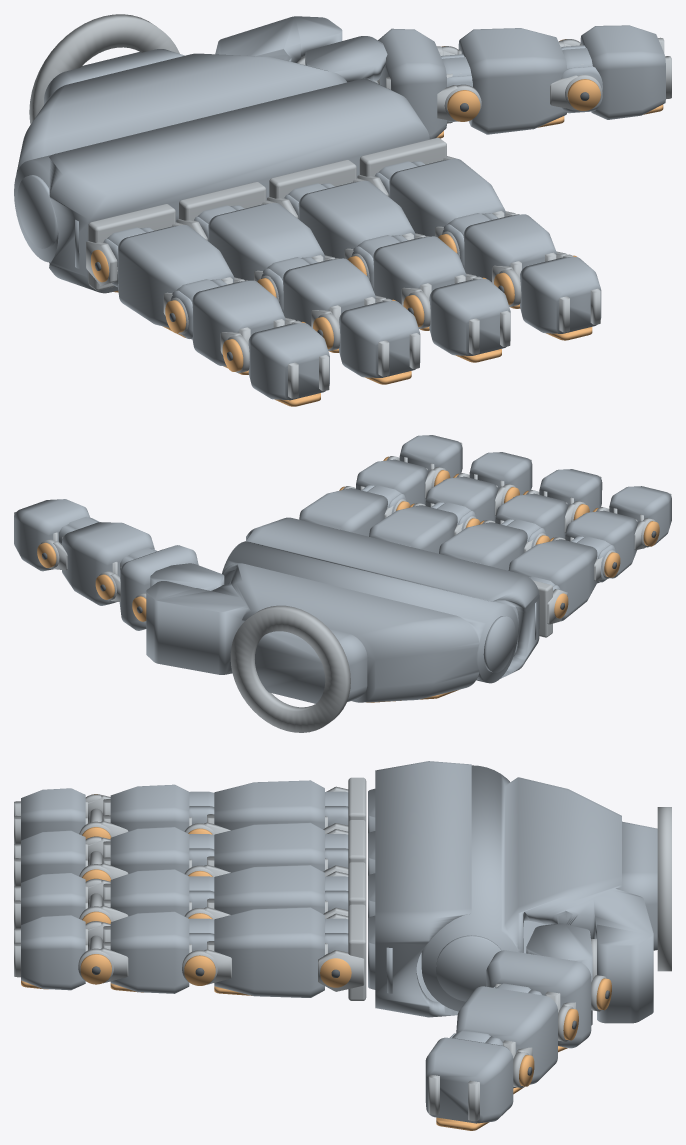
Rendered from vela12.glb.
The picture shows the model from 3 angles, top to bottom: view 1: azimuth 30°, elevation 25°; view 2: azimuth 150°, elevation 25°; view 3: azimuth 270°, elevation 25°; orthographic projection. The views are drawn at different scales.
Parts seen in each view (by area): view 1: visual__palm_bridge_pitch_link__0, visual__central_palm__0, visual__thumb_proximal__0, visual__little_proximal__0, visual__index_proximal__0, visual__ring_proximal__0, visual__middle_proximal__0, visual__thumb_distal__0, visual__thumb_metacarpal__0, visual__central_palm__1, visual__index_distal__0, visual__ring_distal__0 (+25 smaller); view 2: visual__central_palm__0, visual__palm_bridge_pitch_link__0, visual__central_palm__1, visual__thumb_proximal__0, visual__little_proximal__0, visual__middle_proximal__0, visual__ring_proximal__0, visual__index_proximal__0, visual__thumb_distal__0, visual__thumb_metacarpal__0, visual__little_middle__0, visual__middle_middle__0 (+9 smaller); view 3: visual__central_palm__0, visual__palm_bridge_pitch_link__0, visual__index_proximal__0, visual__thumb_proximal__0, visual__thumb_distal__0, visual__index_middle__0, visual__little_proximal__0, visual__middle_proximal__0, visual__ring_proximal__0, visual__thumb_metacarpal__0, visual__index_distal__0, visual__middle_middle__0 (+29 smaller).
Part boxes in pixels (x1=…): visual__palm_bridge_pitch_link__0: x1=48, y1=79, x2=429, y2=293; visual__central_palm__0: x1=14, y1=16, x2=377, y2=262; visual__thumb_proximal__0: x1=458, y1=28, x2=602, y2=134; visual__little_proximal__0: x1=118, y1=225, x2=234, y2=339; visual__index_proximal__0: x1=389, y1=158, x2=505, y2=268; visual__ring_proximal__0: x1=208, y1=203, x2=324, y2=312; visual__middle_proximal__0: x1=298, y1=180, x2=415, y2=290; visual__thumb_distal__0: x1=580, y1=25, x2=665, y2=119; visual__thumb_metacarpal__0: x1=378, y1=28, x2=472, y2=139; visual__central_palm__1: x1=29, y1=14, x2=305, y2=124; visual__index_distal__0: x1=520, y1=257, x2=601, y2=333; visual__ring_distal__0: x1=339, y1=301, x2=420, y2=377; visual__central_palm__0: x1=146, y1=541, x2=518, y2=703; visual__palm_bridge_pitch_link__0: x1=245, y1=517, x2=539, y2=682; visual__central_palm__1: x1=230, y1=605, x2=350, y2=732; visual__thumb_proximal__0: x1=59, y1=516, x2=154, y2=605; visual__little_proximal__0: x1=508, y1=536, x2=615, y2=621; visual__middle_proximal__0: x1=369, y1=502, x2=476, y2=553; visual__ring_proximal__0: x1=439, y1=519, x2=546, y2=570; visual__index_proximal__0: x1=299, y1=485, x2=406, y2=536; visual__thumb_distal__0: x1=14, y1=499, x2=90, y2=571; visual__thumb_metacarpal__0: x1=119, y1=545, x2=198, y2=630; visual__little_middle__0: x1=565, y1=510, x2=637, y2=578; visual__middle_middle__0: x1=425, y1=476, x2=498, y2=522; visual__central_palm__0: x1=421, y1=765, x2=657, y2=1023; visual__palm_bridge_pitch_link__0: x1=368, y1=761, x2=471, y2=1017; visual__index_proximal__0: x1=189, y1=907, x2=324, y2=997; visual__thumb_proximal__0: x1=450, y1=986, x2=557, y2=1088; visual__thumb_distal__0: x1=425, y1=1037, x2=513, y2=1123; visual__index_middle__0: x1=110, y1=911, x2=189, y2=993; visual__little_proximal__0: x1=189, y1=780, x2=324, y2=830; visual__middle_proximal__0: x1=189, y1=865, x2=324, y2=914; visual__ring_proximal__0: x1=189, y1=822, x2=324, y2=872; visual__thumb_metacarpal__0: x1=486, y1=950, x2=591, y2=1048; visual__index_distal__0: x1=21, y1=915, x2=85, y2=990; visual__middle_middle__0: x1=110, y1=869, x2=189, y2=916.
Bounding box in the file's own units: 0.1977 × 0.046 × 0.184.
